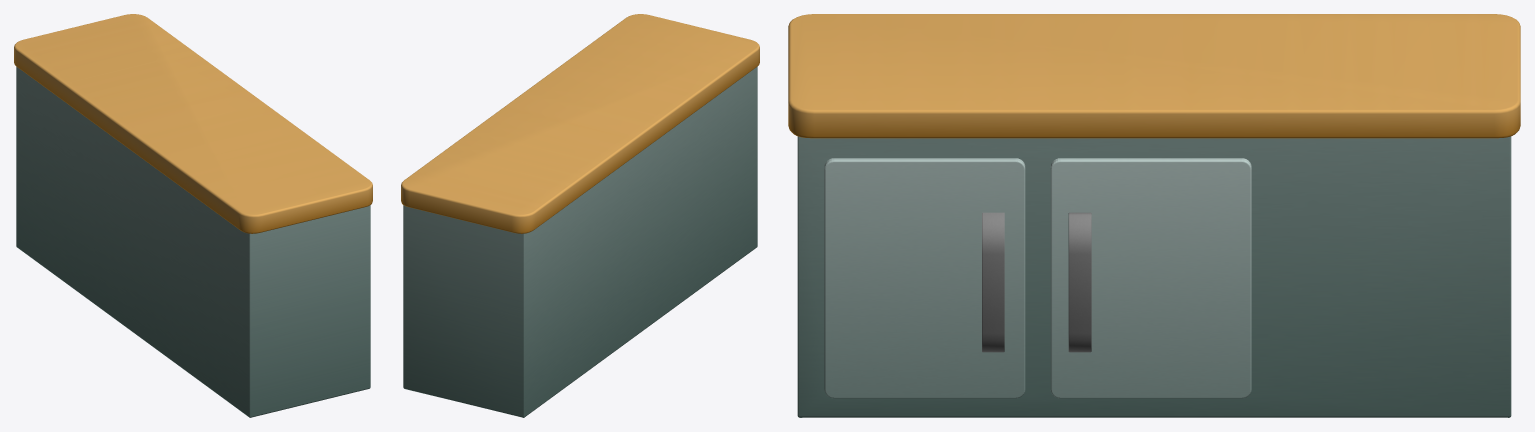
The model's file is oventable.fbx.
The picture shows the model from 3 angles, left to right: view 1: azimuth 30°, elevation 25°; view 2: azimuth 150°, elevation 25°; view 3: azimuth 270°, elevation 25°; orthographic projection. The views are drawn at different scales.
Visible parts, largest first — view 1: Oven Table.001; view 2: Oven Table.001; view 3: Oven Table.001, Door Left.001, Door RIght.001.
Boxes of the visible parts, x1,y1,x2,y2 form: Oven Table.001: (14, 14, 372, 417); Oven Table.001: (401, 14, 759, 417); Oven Table.001: (788, 14, 1520, 417); Door Left.001: (824, 158, 1025, 398); Door RIght.001: (1050, 158, 1251, 398).
Size of the model in its own units: 78.38 by 104 by 222.
